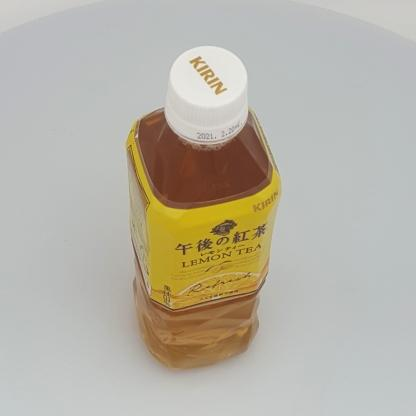--------------500ml: (125, 45, 282, 371)
